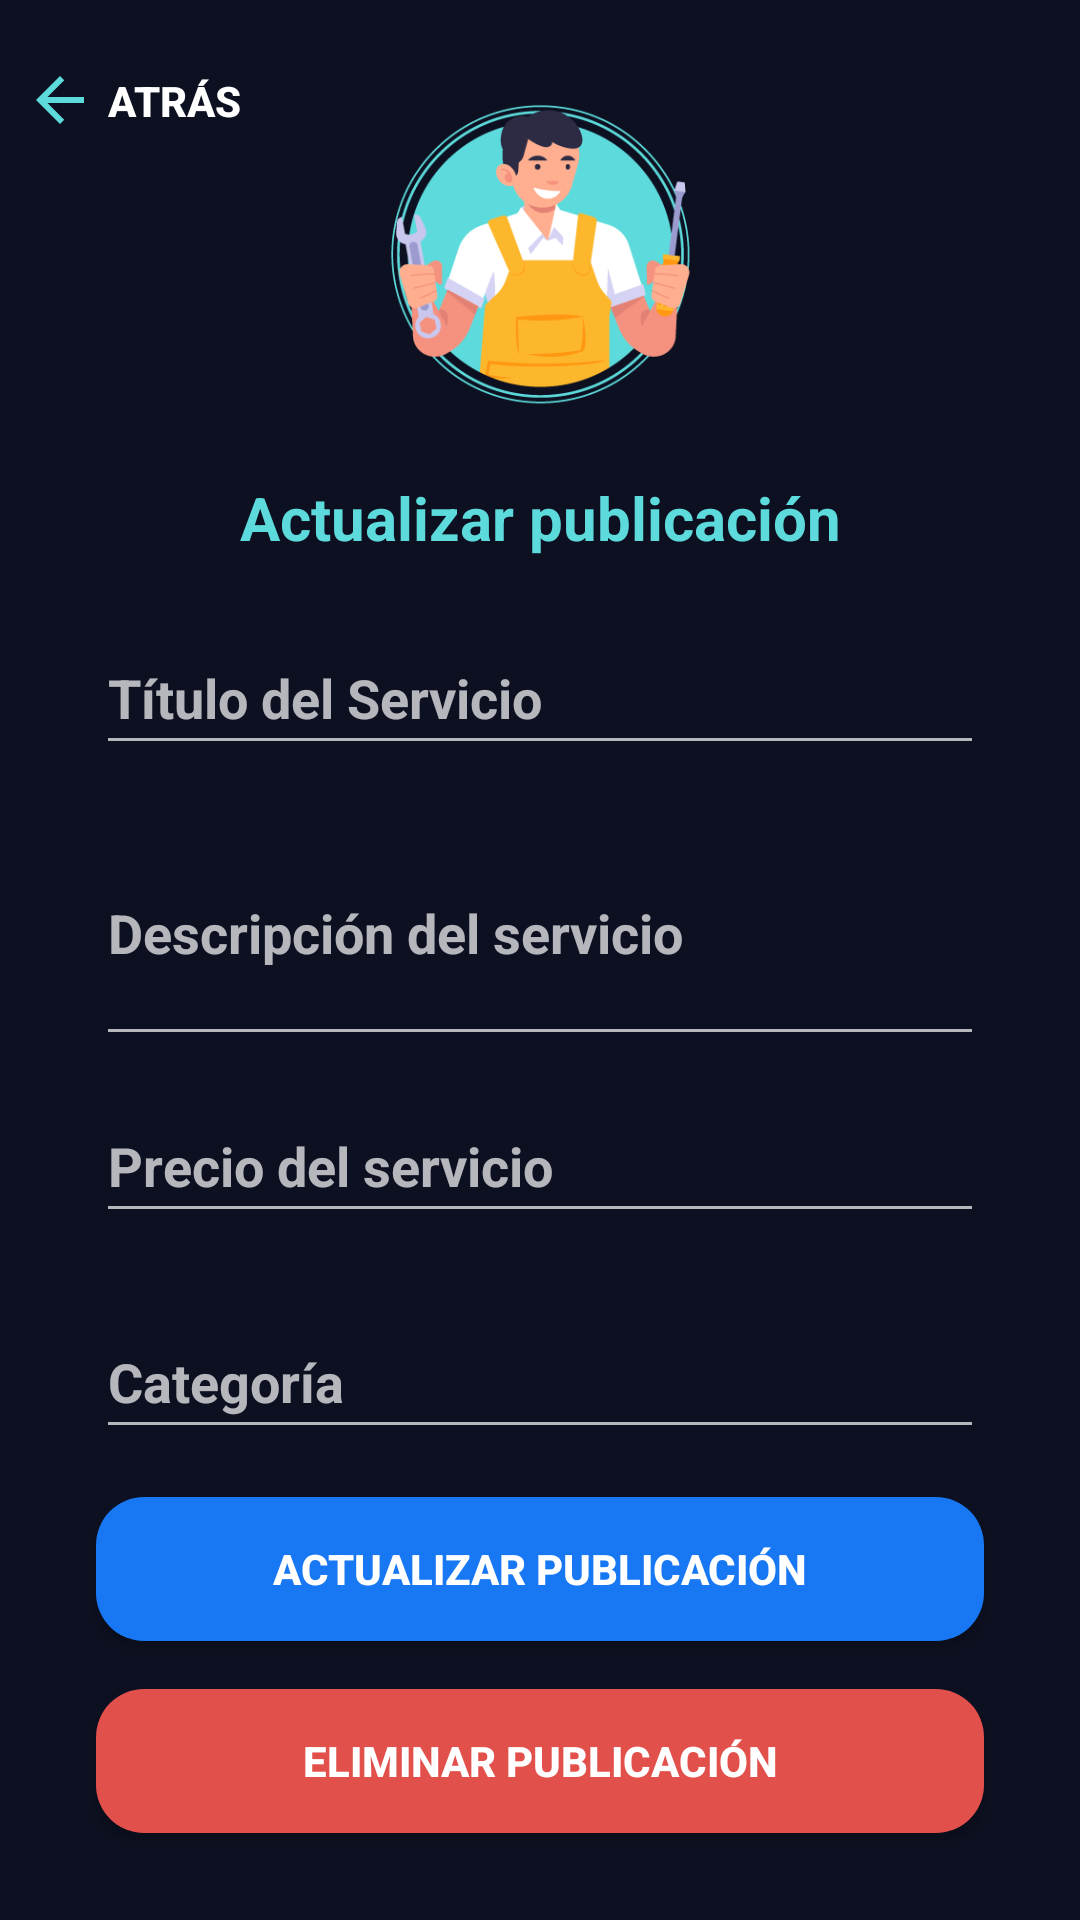

Where icons sit on this 1080x1920 app screen, as (x1, y1, x2, y2):
trabajador: (391, 105, 690, 404)
